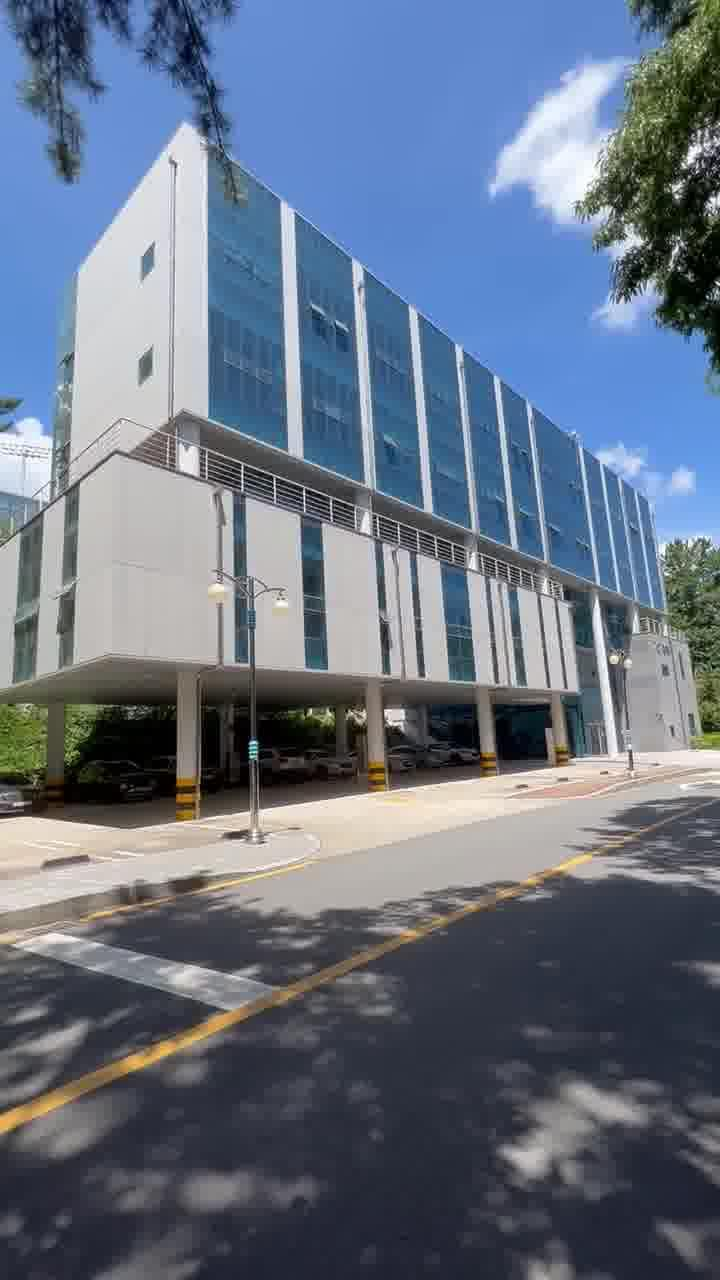building: (50, 172, 652, 734)
